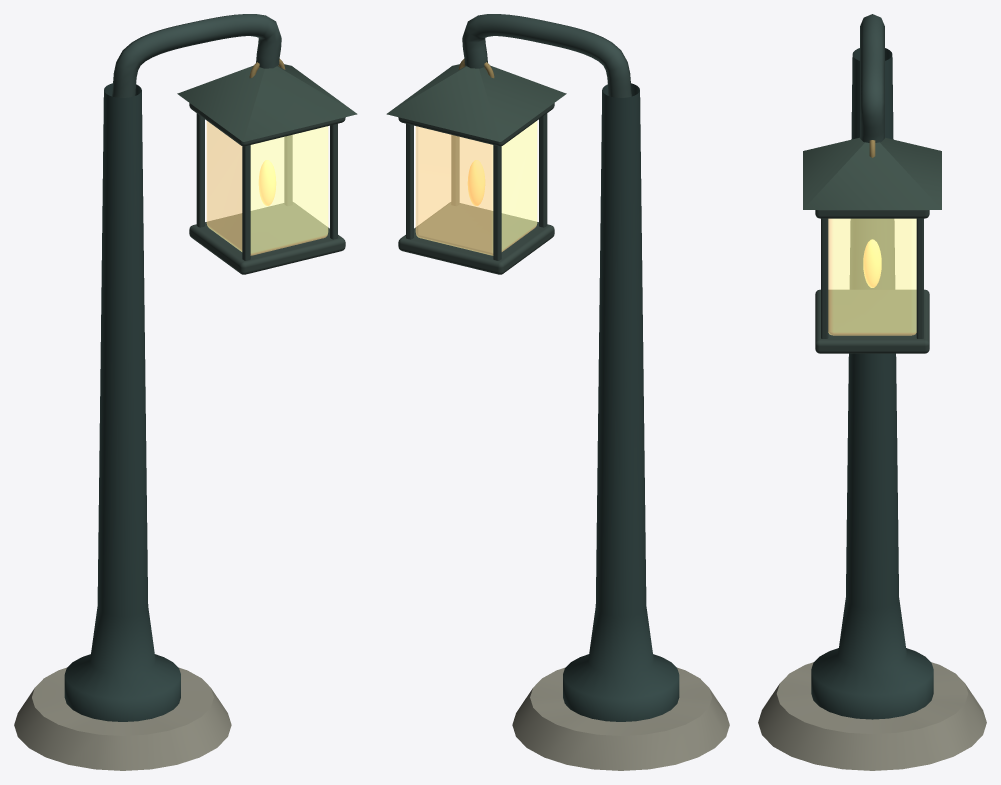
File: trail-lamp.glb
The picture shows the model from 3 angles, left to right: view 1: azimuth 30°, elevation 25°; view 2: azimuth 150°, elevation 25°; view 3: azimuth 270°, elevation 25°; orthographic projection. The views are drawn at different scales.
Visible parts, largest first — view 1: trail-lamp-metal, trail-lamp-stone, trail-lamp-glass, trail-lamp-flame; view 2: trail-lamp-metal, trail-lamp-stone, trail-lamp-glass, trail-lamp-flame; view 3: trail-lamp-metal, trail-lamp-stone, trail-lamp-glass, trail-lamp-flame.
Boxes of the visible parts, bbox=[...] form: trail-lamp-metal: bbox=[64, 14, 357, 721]; trail-lamp-stone: bbox=[14, 667, 231, 770]; trail-lamp-glass: bbox=[206, 121, 328, 255]; trail-lamp-flame: bbox=[259, 160, 275, 205]; trail-lamp-metal: bbox=[386, 14, 679, 721]; trail-lamp-stone: bbox=[512, 667, 729, 770]; trail-lamp-glass: bbox=[415, 121, 537, 255]; trail-lamp-flame: bbox=[468, 160, 484, 205]; trail-lamp-metal: bbox=[803, 14, 941, 719]; trail-lamp-stone: bbox=[758, 662, 986, 770]; trail-lamp-glass: bbox=[828, 218, 916, 335]; trail-lamp-flame: bbox=[863, 239, 881, 287].
Size of the model in its own units: 1.35 by 2.99 by 0.86.
